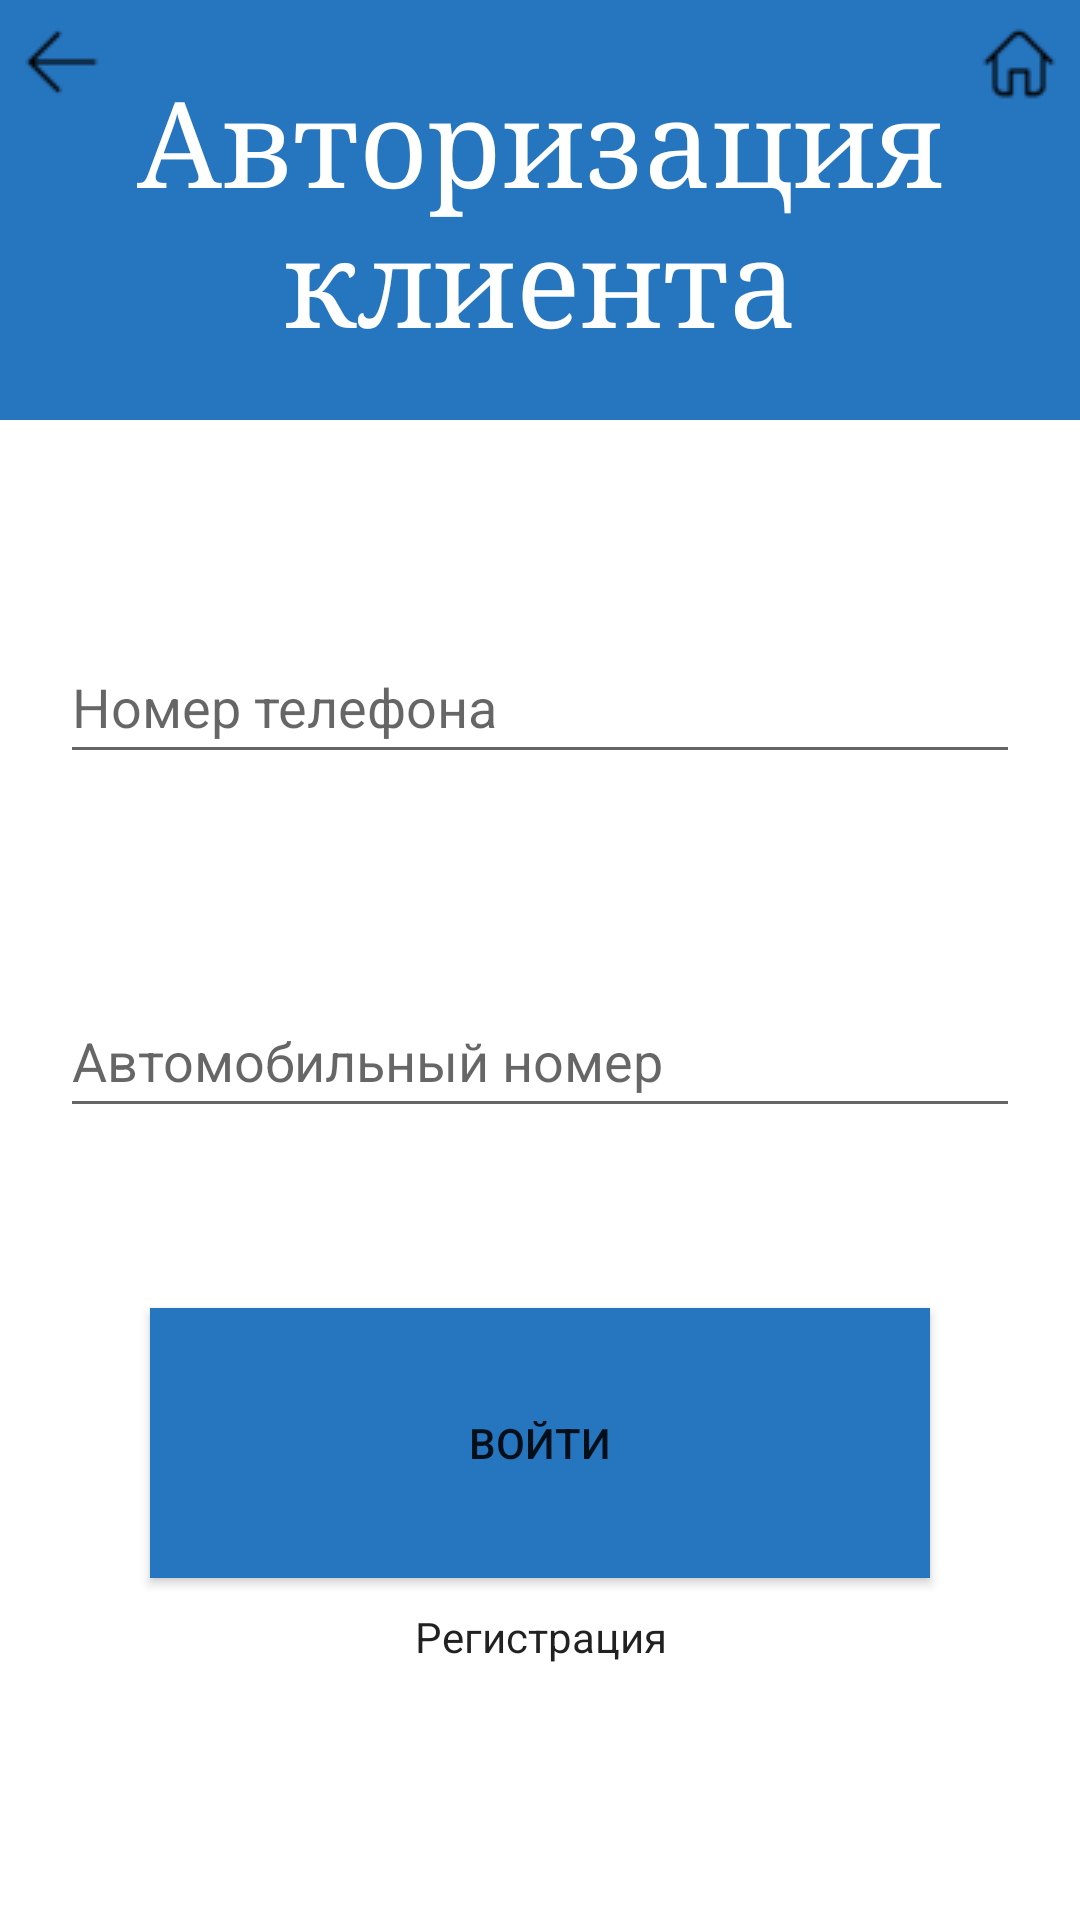

Named icons in this screenshot (1080 × 1920) and their centers, (x=x, y=y):
direction left arrow: (x=61, y=62)
house home: (x=1019, y=64)
